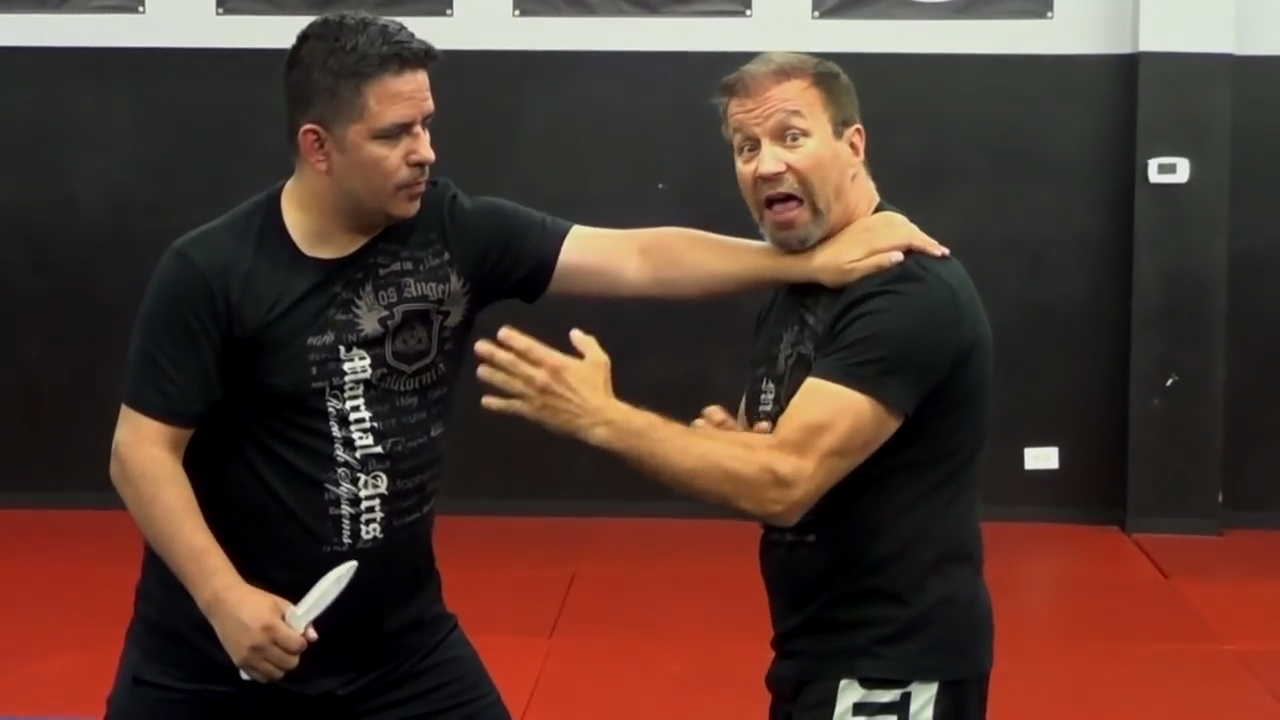knife: (235, 551, 363, 687)
